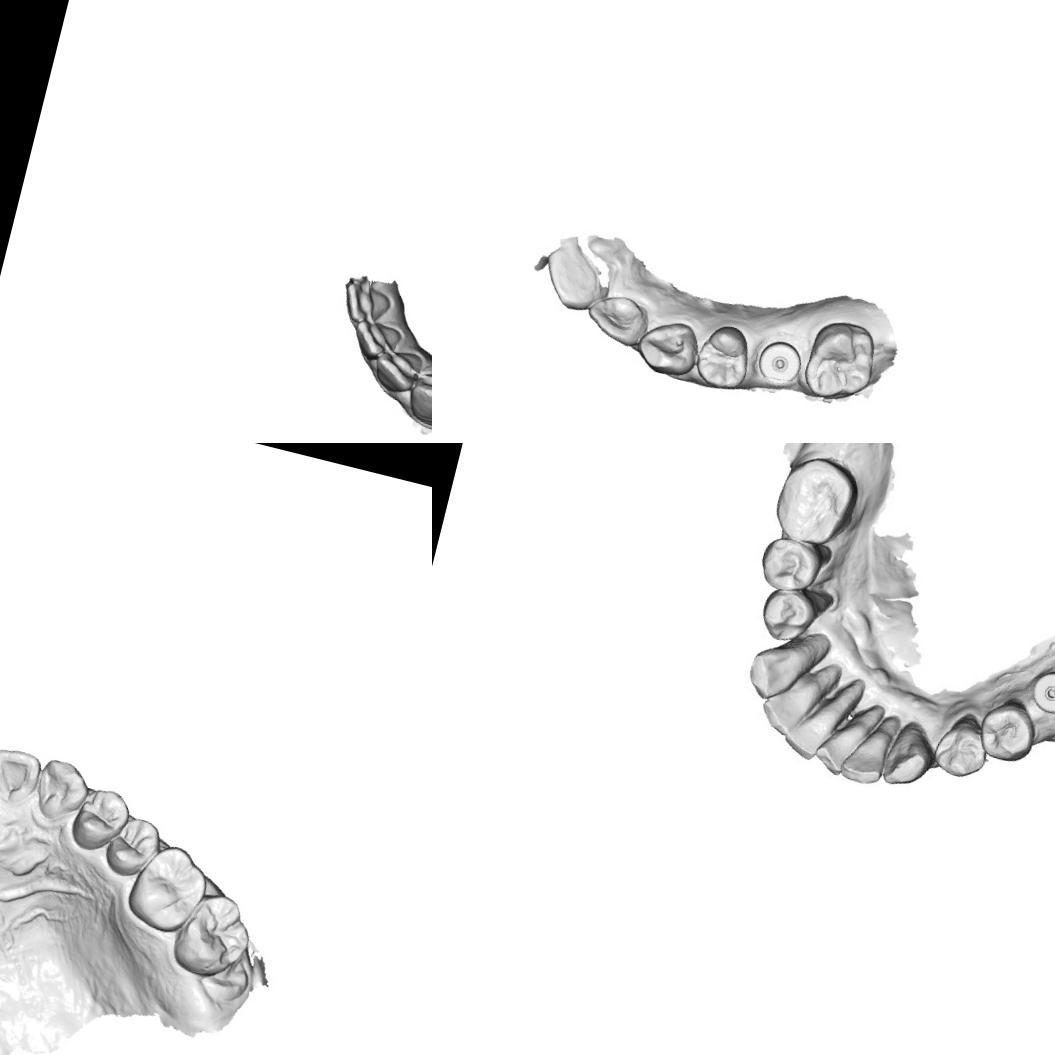canine: (629, 310, 703, 382), (744, 633, 816, 706), (30, 756, 95, 826), (880, 723, 936, 792), (402, 360, 432, 432)
implant: (751, 333, 807, 392), (1029, 668, 1055, 716)
incisor: (534, 233, 615, 318), (578, 286, 654, 350), (761, 671, 820, 742), (840, 718, 894, 793), (815, 707, 870, 779), (786, 694, 841, 762), (366, 343, 428, 400), (335, 274, 398, 330), (347, 313, 406, 365), (0, 744, 44, 805)
molar: (120, 836, 214, 938), (166, 885, 258, 985), (766, 452, 858, 548), (796, 312, 884, 411)
premolar: (688, 318, 758, 396), (972, 696, 1044, 768), (66, 782, 134, 857), (930, 708, 996, 780), (99, 810, 164, 882), (754, 529, 821, 595), (758, 586, 822, 648)
